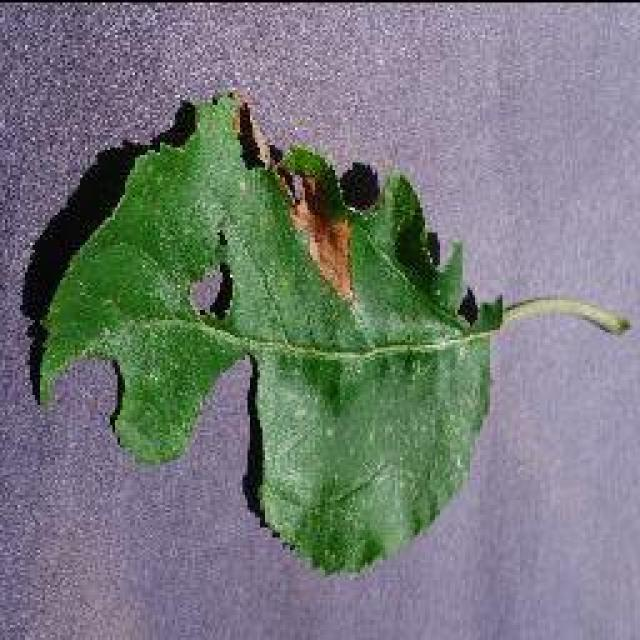Black_rot: (30, 88, 630, 578)
